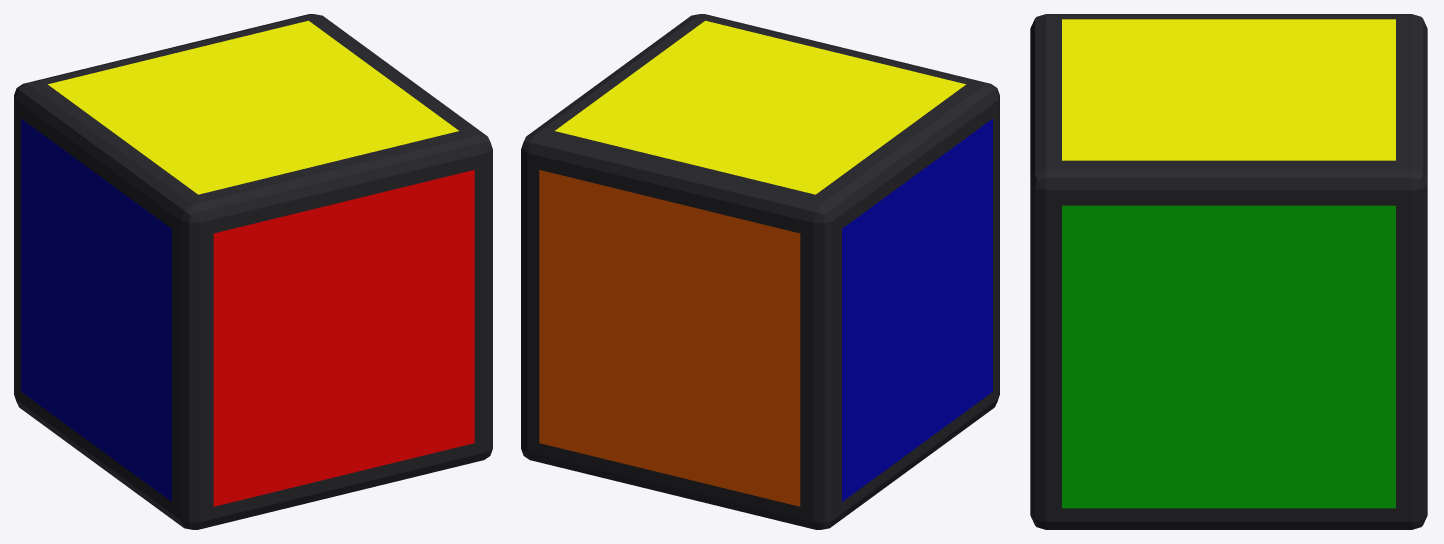
Rendered from cubie-stickers.fbx.
3 renders of one model, left to right at view 1: azimuth 30°, elevation 25°; view 2: azimuth 150°, elevation 25°; view 3: azimuth 270°, elevation 25°, orthographic. The views are drawn at different scales.
Visible parts, largest first — view 1: Cubie; view 2: Cubie; view 3: Cubie.
Part boxes in pixels (x1,y1,x2,y2): Cubie: (14, 14, 492, 529); Cubie: (521, 14, 999, 529); Cubie: (1030, 14, 1427, 529).
Bounding box in the file's own units: 101 × 101 × 101.
